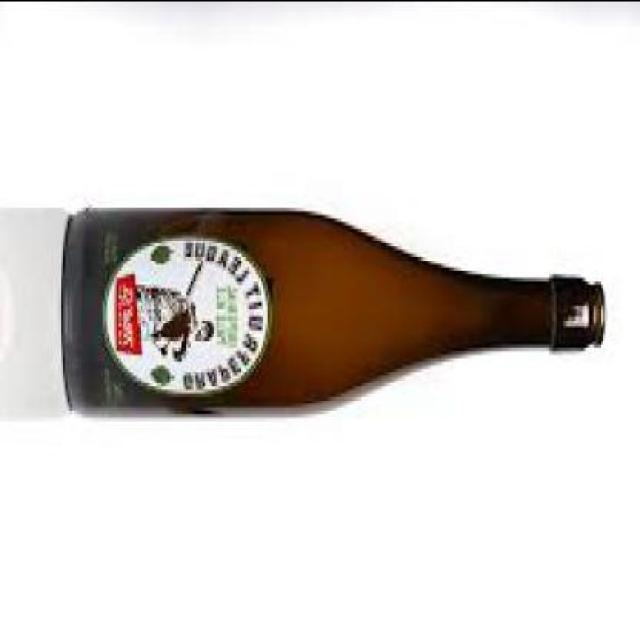GLASS: (63, 206, 608, 423)
